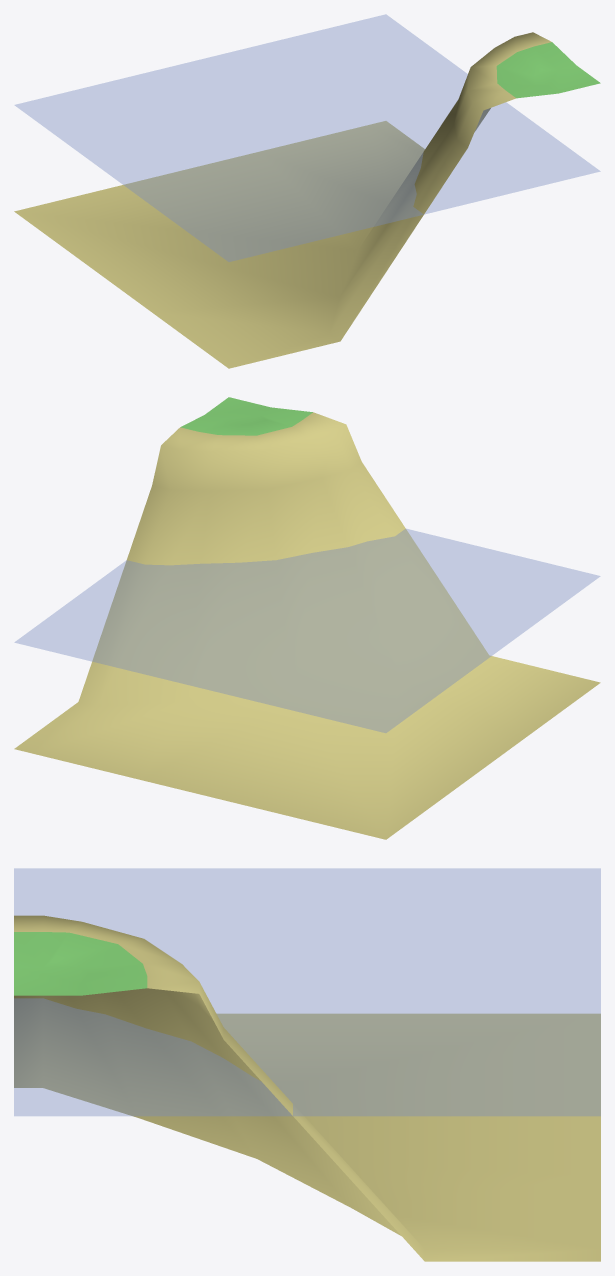
The model's file is tile_mid_water_1000.fbx.
3 renders of one model, top to bottom at view 1: azimuth 30°, elevation 25°; view 2: azimuth 150°, elevation 25°; view 3: azimuth 270°, elevation 25°, orthographic. The views are drawn at different scales.
Parts seen in each view (by area): view 1: tile_mid_water_1000; view 2: tile_mid_water_1000; view 3: tile_mid_water_1000.
Boxes of the visible parts, x1,y1,x2,y2 form: tile_mid_water_1000: (14,14,600,368); tile_mid_water_1000: (14,397,600,839); tile_mid_water_1000: (14,868,600,1261).
Size of the model in its own units: 2 by 1.03 by 2.
